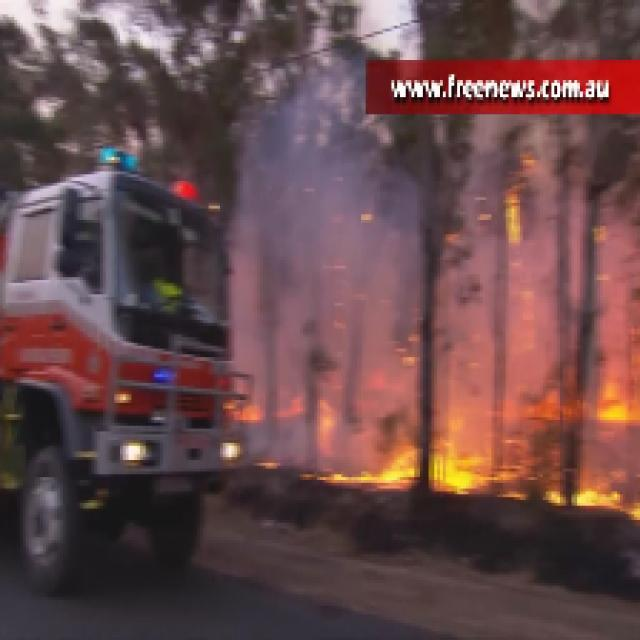Fire: (328, 442, 483, 494)
Smoke: (246, 117, 428, 414), (448, 234, 632, 377)
